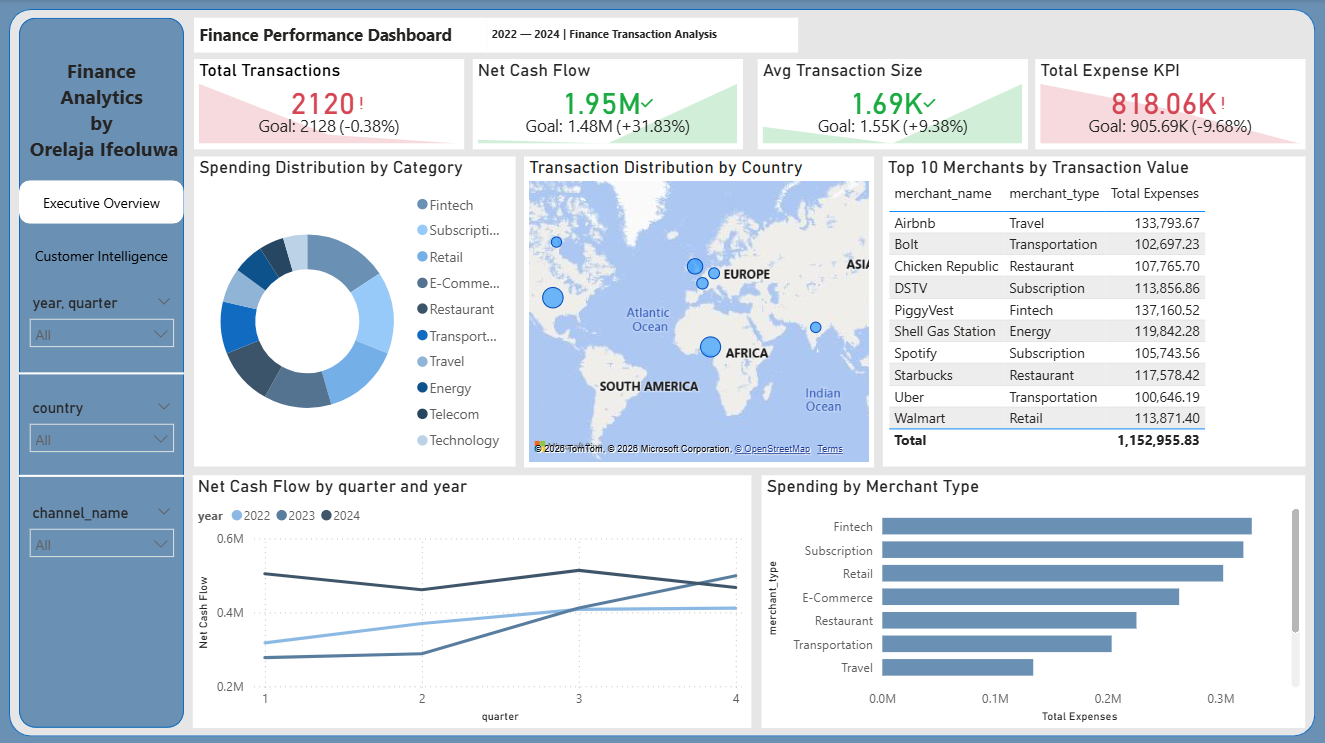

The dashboard page shown, as its layout file describes it:
{"tool":"powerbi","page":{"name":"Executive Overview","canvas":[1280,720],"ordinal":0},"visuals":[{"type":"shape","box":[9.1,9.1,1260.7,702.1],"z":0},{"type":"lineChart","fields":{"Y":["finance fact_transactions.Net Cash Flow"],"Series":["finance dim_date.year"],"Category":["finance dim_date.year","finance dim_date.quarter"]},"box":[187,459.7,539.3,243.7],"z":1000},{"type":"donutChart","title":"Spending Distribution by Category","fields":{"Y":["finance fact_transactions.Total Expenses"],"Category":["finance dim_merchant.merchant_type"]},"box":[188.2,152,310.1,299.2],"z":2000},{"type":"shape","box":[19.3,18.1,159.3,685.3],"z":3000},{"type":"slicer","title":"Date","fields":{"Values":["finance dim_date.year","finance dim_date.quarter"]},"box":[19.3,279.9,159.3,101.3],"z":4000},{"type":"slicer","title":"Date","fields":{"Values":["finance dim_customer.country"]},"box":[19.3,381.2,159.3,101.3],"z":5000},{"type":"slicer","title":"Date","fields":{"Values":["finance dim_channel.channel_name"]},"box":[19.3,482.6,159.3,101.3],"z":6000},{"type":"map","title":"Transaction Distribution by Country","fields":{"Category":["finance dim_customer.country"],"Size":["finance fact_transactions.Total Transactions"]},"box":[506.7,152,337.8,299.2],"z":7000},{"type":"clusteredBarChart","title":"Spending by Merchant Type","fields":{"Category":["finance dim_merchant.merchant_type"],"Y":["finance fact_transactions.Total Expenses"]},"box":[735.9,459.7,524.8,243.7],"z":8000},{"type":"tableEx","title":"Top 10 Merchants by Transaction Value","fields":{"Values":["finance dim_merchant.merchant_name","finance dim_merchant.merchant_type","finance fact_transactions.Total Expenses"]},"box":[853,152,407.8,299.2],"z":9000},{"type":"textbox","box":[188.2,18.1,282.3,33.8],"z":10000},{"type":"textbox","box":[19.3,51.9,159.3,172.5],"z":11000},{"type":"shape","box":[19.3,211.1,159.3,300.4],"z":12000},{"type":"shape","box":[19.3,310.1,159.3,300.4],"z":13000},{"type":"kpi","title":"Total Transactions ","fields":{"Indicator":["finance fact_transactions.Total Transactions"],"Goal":["finance fact_transactions.Total Transactions PY"],"TrendLine":["finance dim_date.year"]},"box":[188.2,57.9,260.6,86.9],"z":14000},{"type":"kpi","title":"Total Expense KPI","fields":{"TrendLine":["finance dim_date.year"],"Indicator":["finance fact_transactions.Total Expenses KPI"],"Goal":["finance fact_transactions.Total Expenses PY"]},"box":[1000.1,57.9,260.6,86.9],"z":15000},{"type":"kpi","title":"Avg Transaction Size","fields":{"TrendLine":["finance dim_date.year"],"Indicator":["finance fact_transactions.Avg Transaction Size"],"Goal":["finance fact_transactions.Avg Transaction Size PY"]},"box":[732.3,57.9,260.6,86.9],"z":16000},{"type":"kpi","title":"Net Cash Flow","fields":{"Indicator":["finance fact_transactions.Net Cash Flow"],"Goal":["finance fact_transactions.Net Cash Flow PY"],"TrendLine":["finance dim_date.year"]},"box":[457.2,57.9,260.6,86.9],"z":17000},{"type":"textbox","box":[470.5,18.1,300.4,33.8],"z":18000},{"type":"pageNavigator","box":[19.3,174.9,159.3,94.1],"z":19000}]}

Visuals, with their boxes in screenshot pixels (x1, y1, x2, y2), scaled from the page's 1280x720 canvas onto the 1325x743 screenshot:
shape: 9/9/1314/734
lineChart - finance fact_transactions.Net Cash Flow x finance dim_date.year: 194/474/752/726
"Spending Distribution by Category" donutChart: 195/157/516/466
shape: 20/19/185/726
"Date" slicer: 20/289/185/393
"Date" slicer: 20/393/185/498
"Date" slicer: 20/498/185/603
"Transaction Distribution by Country" map: 525/157/874/466
"Spending by Merchant Type" clusteredBarChart: 762/474/1305/726
"Top 10 Merchants by Transaction Value" tableEx: 883/157/1305/466
textbox: 195/19/487/54
textbox: 20/54/185/232
shape: 20/218/185/528
shape: 20/320/185/630
"Total Transactions " kpi: 195/60/465/149
"Total Expense KPI" kpi: 1035/60/1305/149
"Avg Transaction Size" kpi: 758/60/1028/149
"Net Cash Flow" kpi: 473/60/743/149
textbox: 487/19/798/54
pageNavigator: 20/180/185/278
